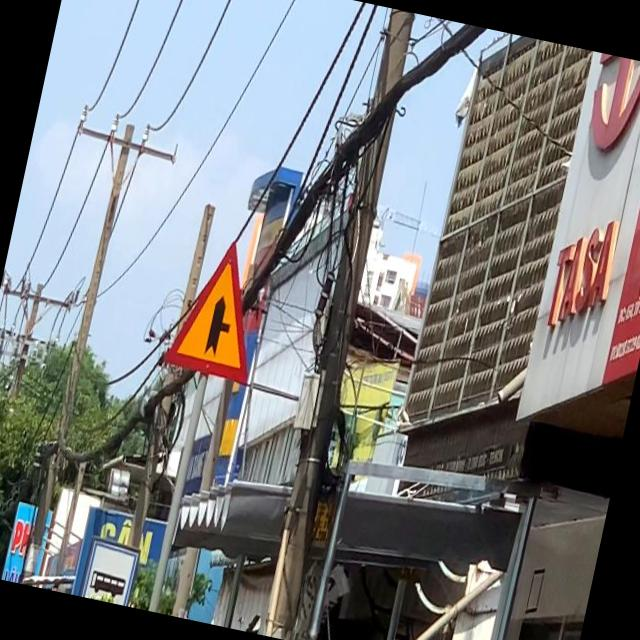W-207b: (160, 232, 274, 388)
